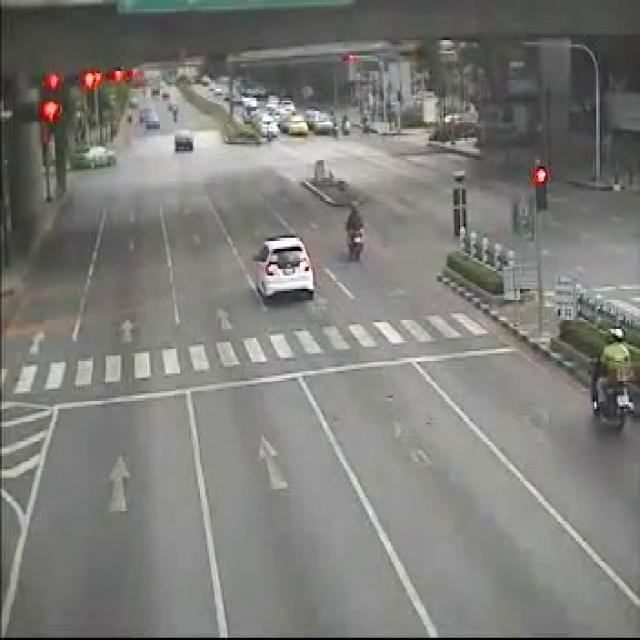car: (253, 235, 312, 300)
motobike: (592, 325, 627, 430)
stop_line: (50, 346, 503, 407)
